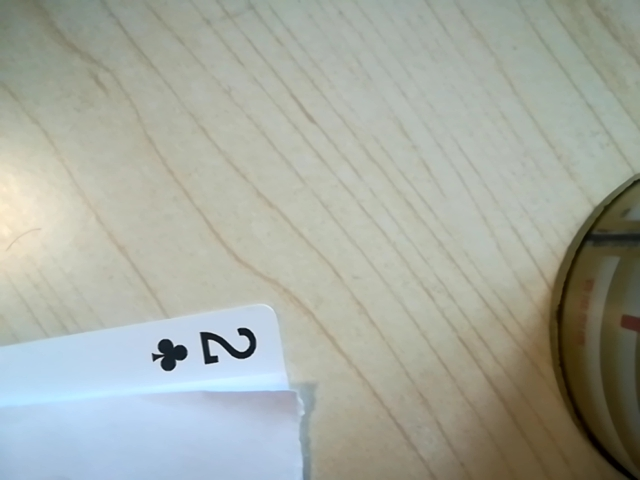mh 2: (140, 317, 282, 384)
